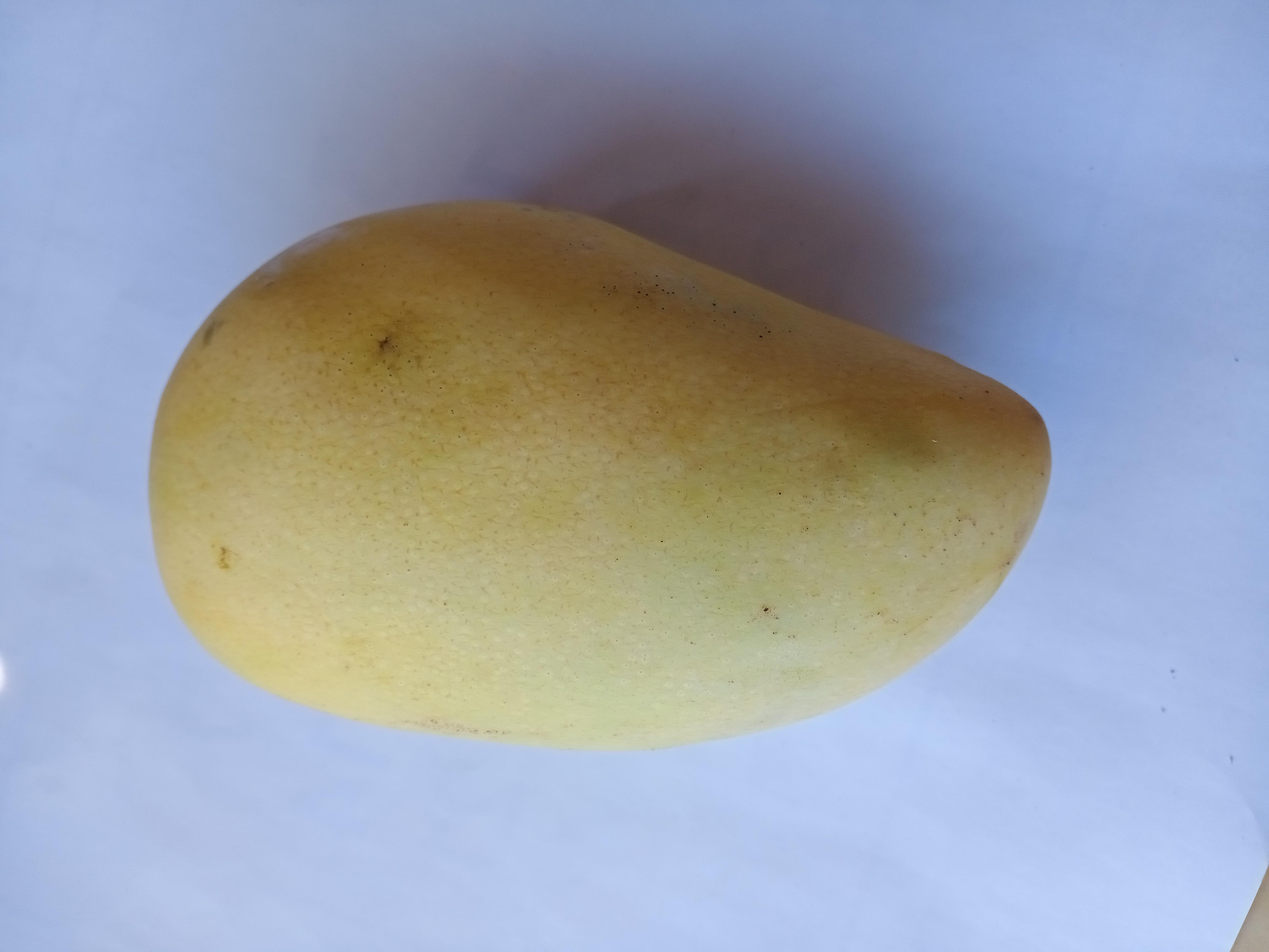Mango Ripe: (88, 174, 1077, 774)
